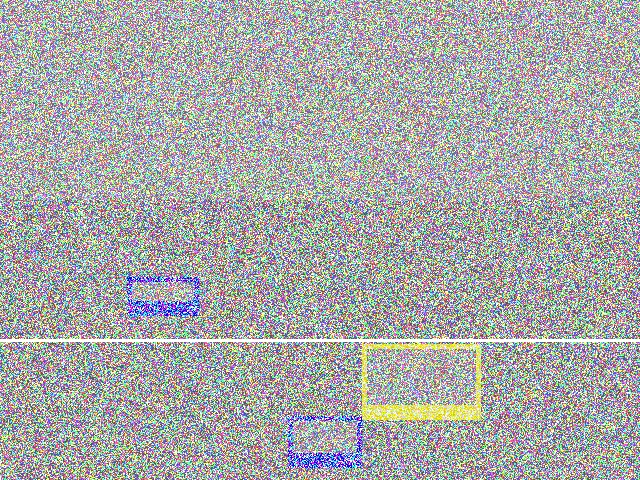bus: (92, 338, 157, 474)
motorcycle: (488, 322, 556, 437)
truck: (503, 132, 576, 201)
